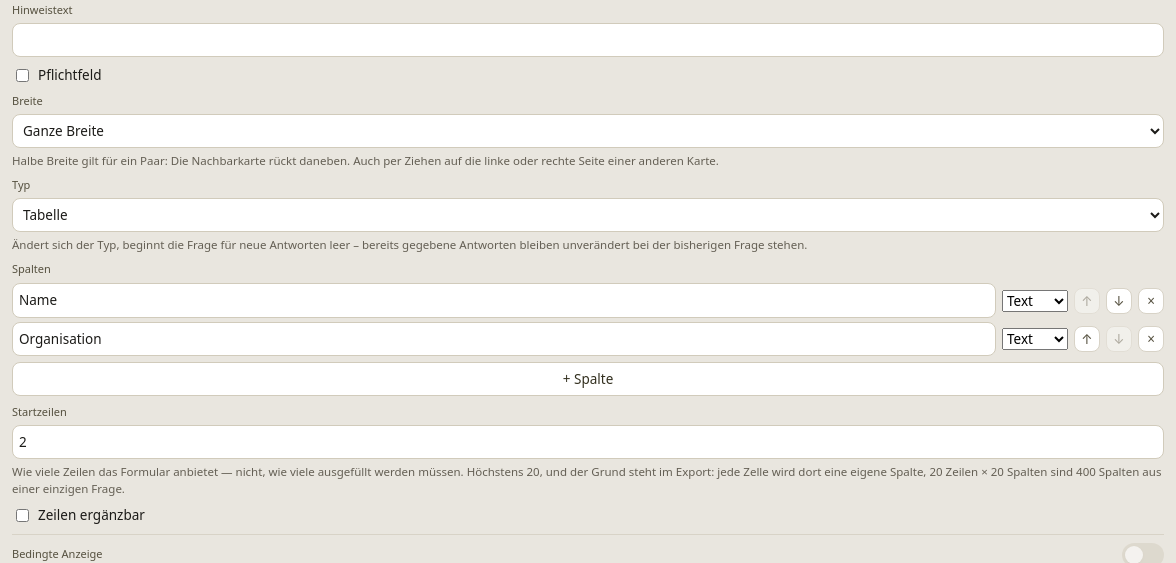
Test case: die Live-Vorschau zeigt „+ Zeile" › takes the ceiling beside it from the Obergrenze, not from the Startzeilen
This screenshot has width=1176, height=563.
(page scrolled)
Click the checkbox labelled "Zeilen ergänzbar" at (22, 516), box x1=16 y1=509 x2=29 y2=522
(page scrolled)
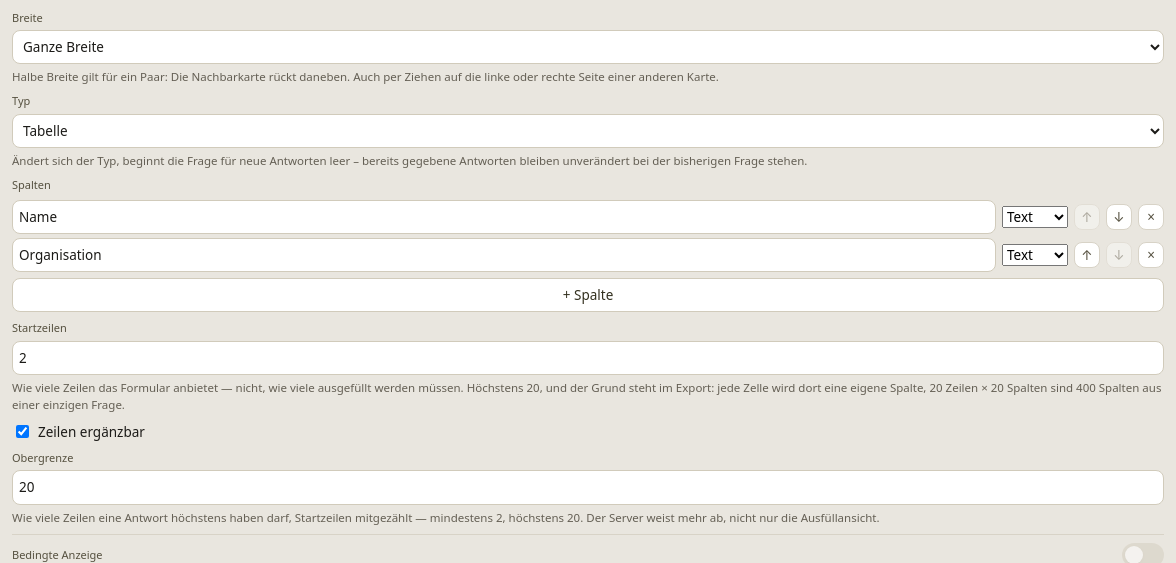
Replace the text in the number field labelled "Obergrenze" with "6" at (588, 488), box x1=12 y1=470 x2=1164 y2=505
(page scrolled)
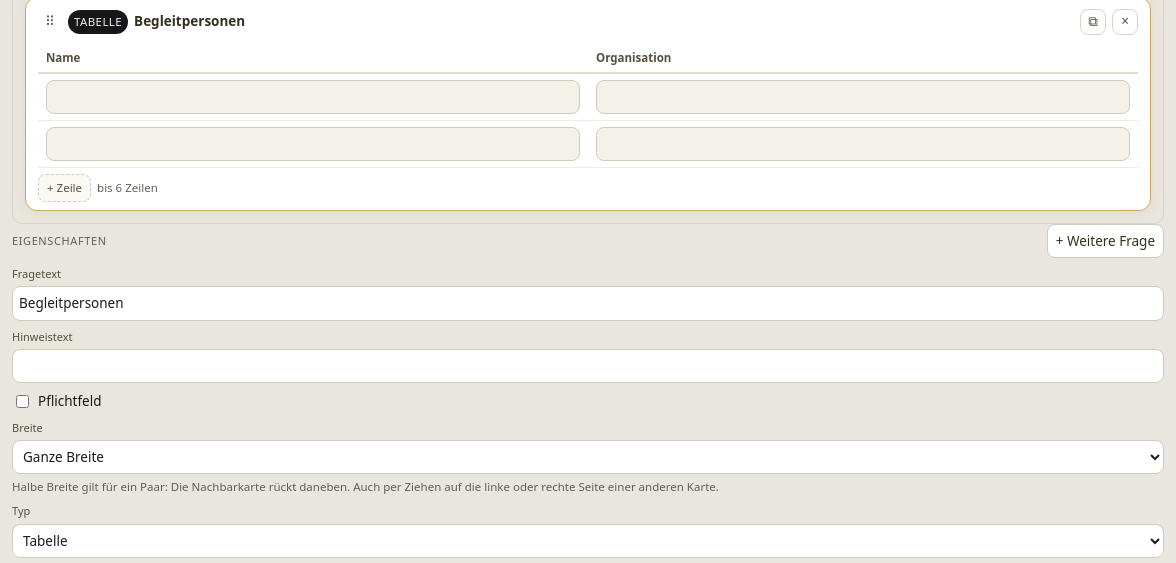
Expected: the text "bis 6 Zeilen" is shown, x1=97 y1=179 x2=158 y2=197
